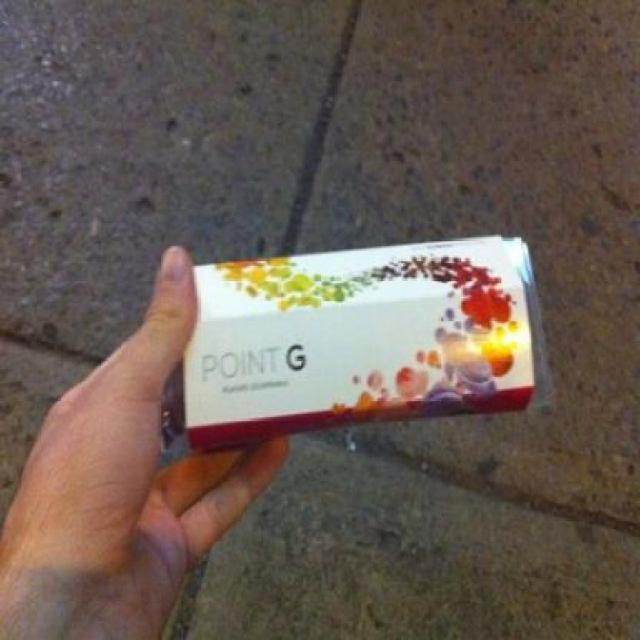Macaron: (180, 232, 538, 426)
